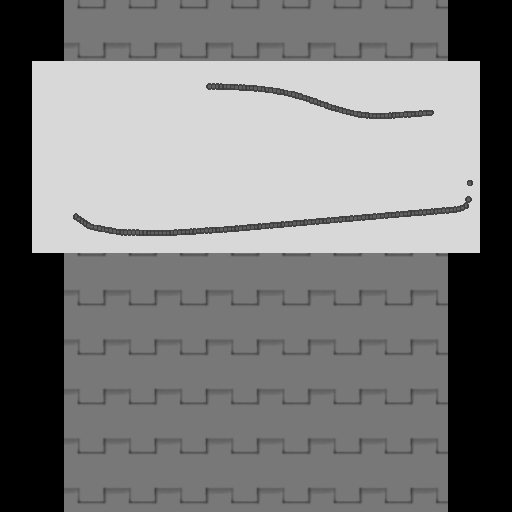Defect: (61, 73, 207, 214)
